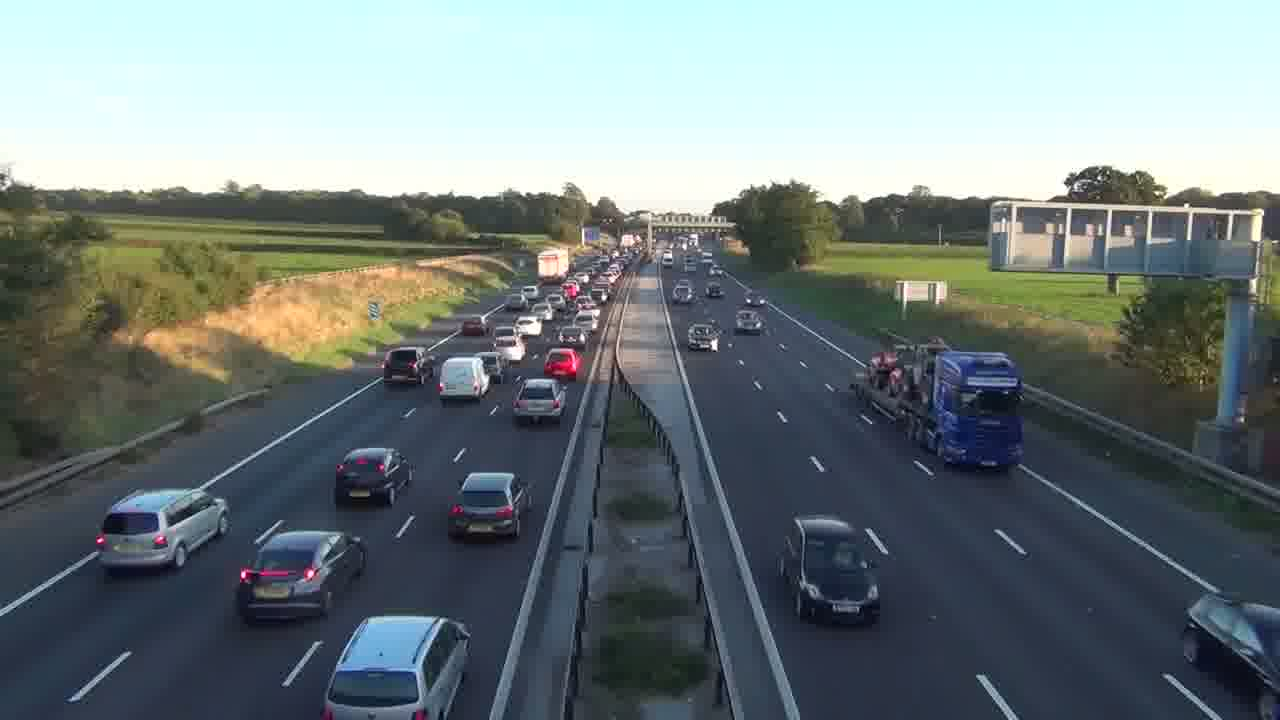car: (321, 612, 472, 718), (235, 522, 368, 624), (776, 512, 891, 627), (96, 487, 231, 574), (446, 470, 534, 542), (333, 446, 414, 506), (512, 378, 567, 426), (543, 347, 583, 382)
truck: (854, 345, 1025, 471), (437, 356, 489, 403), (382, 347, 423, 387)
